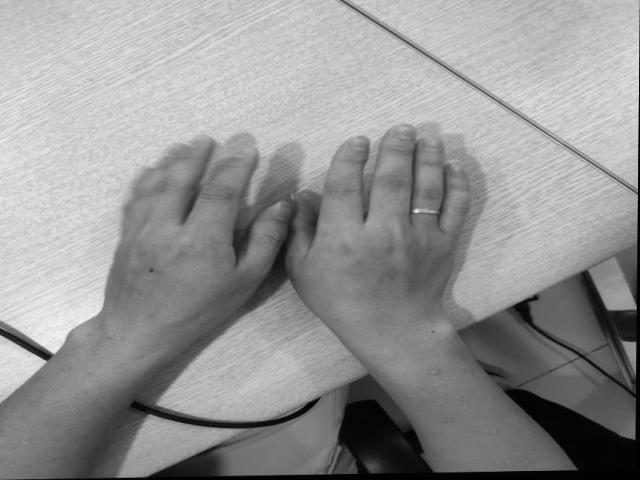not-gloved: (98, 138, 288, 338), (296, 131, 470, 328)
